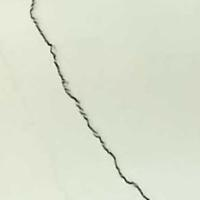crack: (28, 2, 152, 199)
